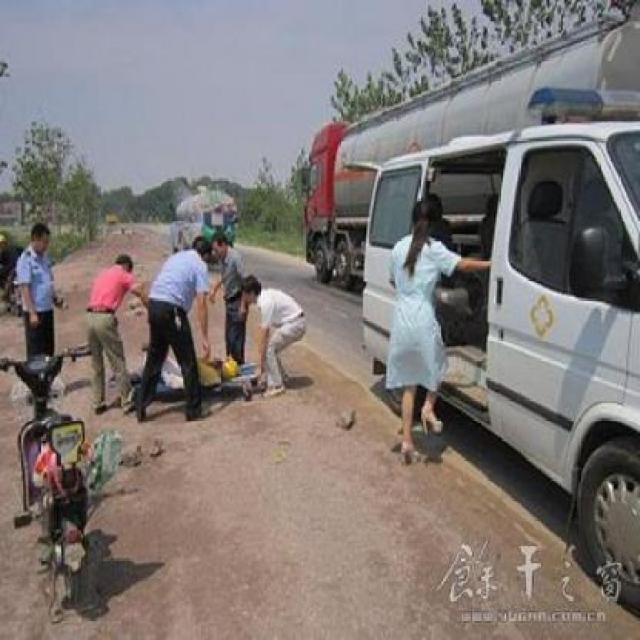fall: (96, 329, 255, 420)
